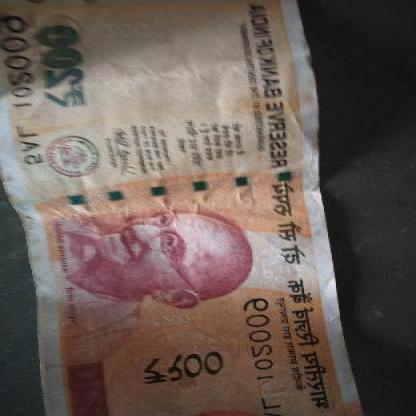New200Front: (16, 2, 316, 415)
